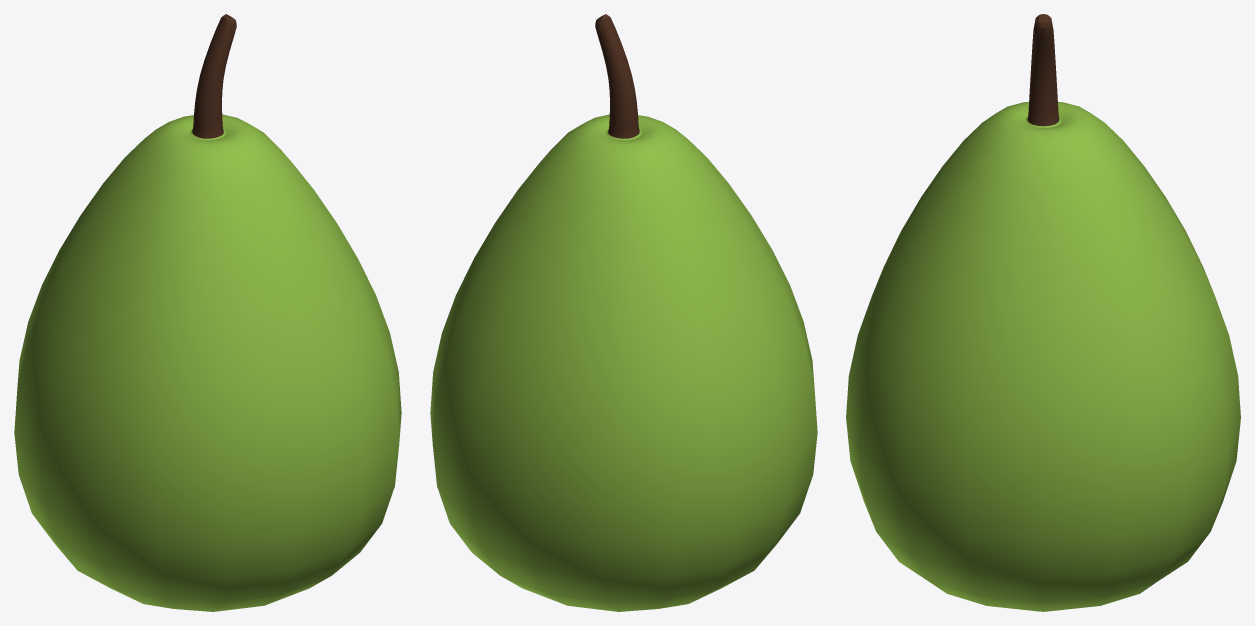
File: Pear.fbx
3 renders of one model, left to right at view 1: azimuth 30°, elevation 25°; view 2: azimuth 150°, elevation 25°; view 3: azimuth 270°, elevation 25°, orthographic. The views are drawn at different scales.
Visible parts, largest first — view 1: Cube.013; view 2: Cube.013; view 3: Cube.013.
Part boxes in pixels (bbox=[...]): Cube.013: bbox=[14, 14, 401, 611]; Cube.013: bbox=[430, 14, 817, 611]; Cube.013: bbox=[846, 14, 1240, 611].
Size of the model in its own units: 2.4 by 2.4 by 3.88.
